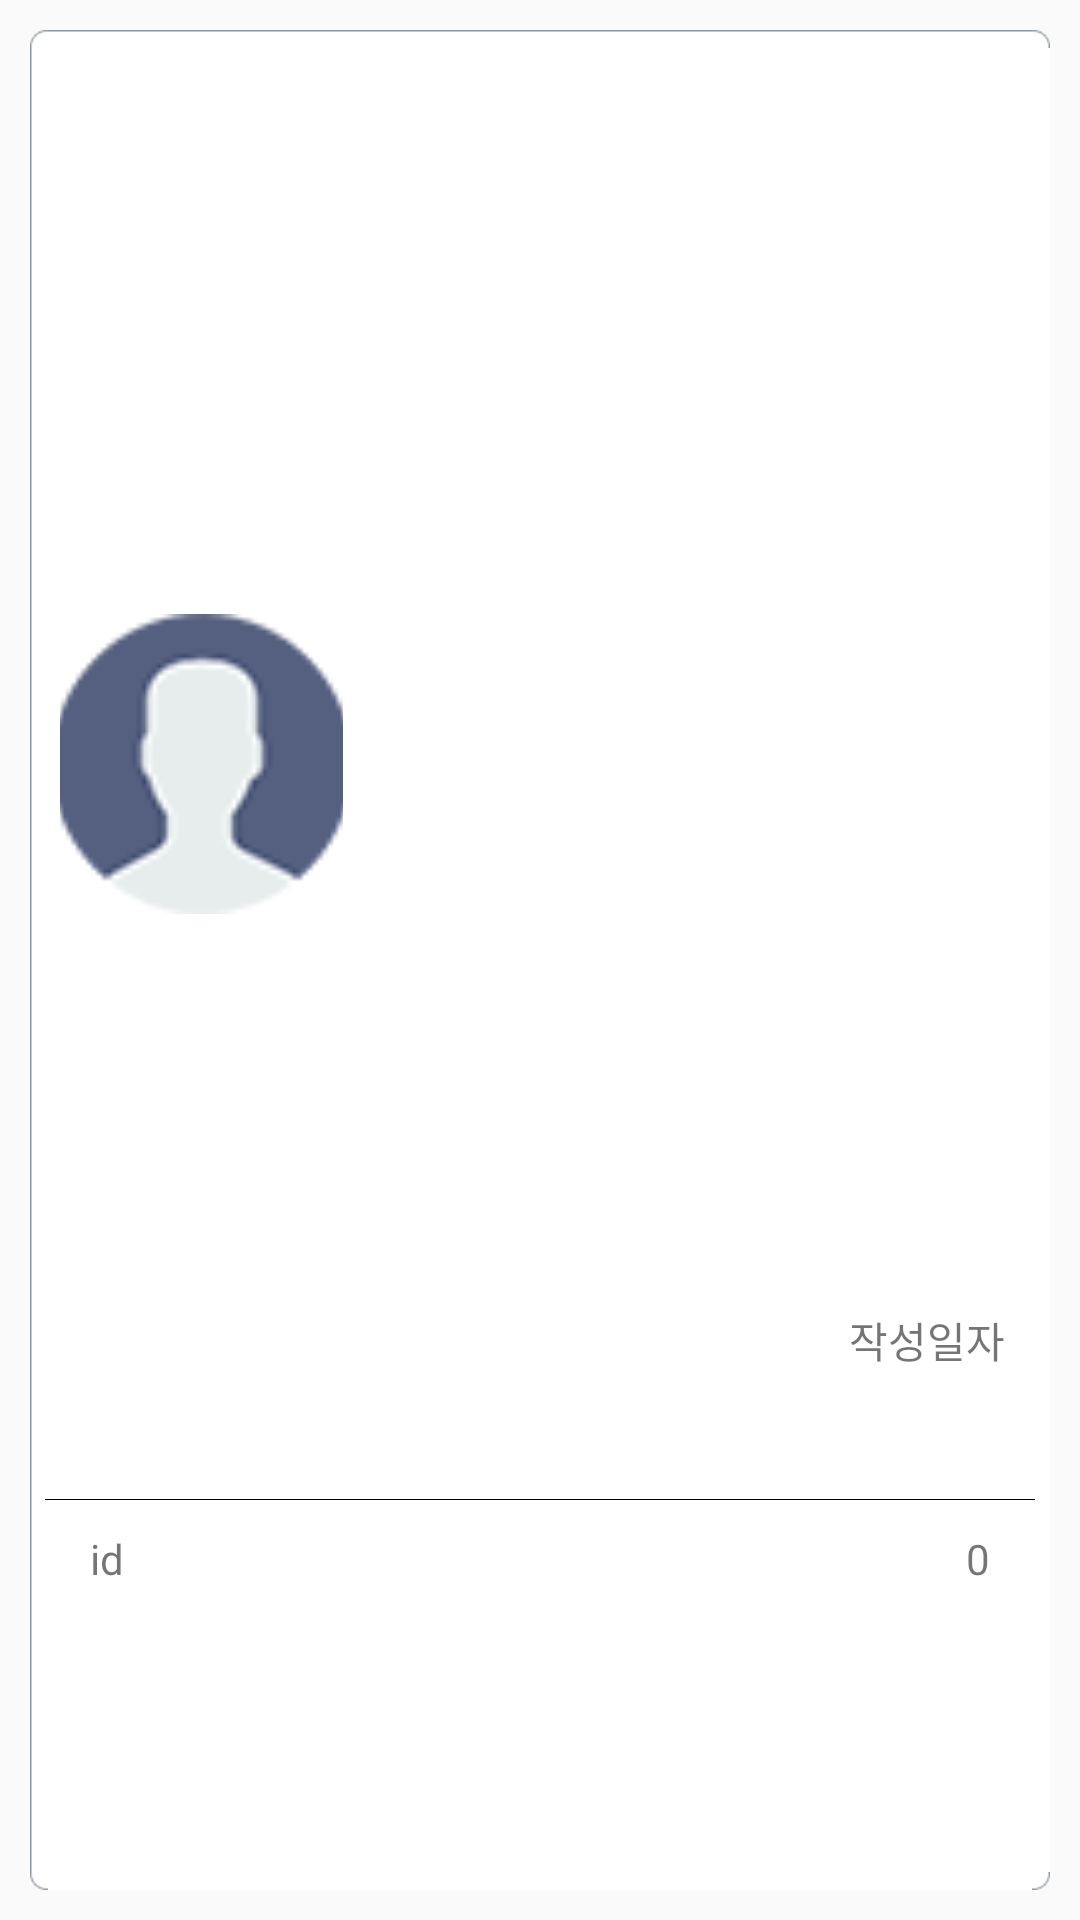

Screen size 1080 x 1920. Icon name, then its box in pixels as (left=x1, top=y1, right=x2, bottom=y2):
user: (left=60, top=614, right=343, bottom=885)
